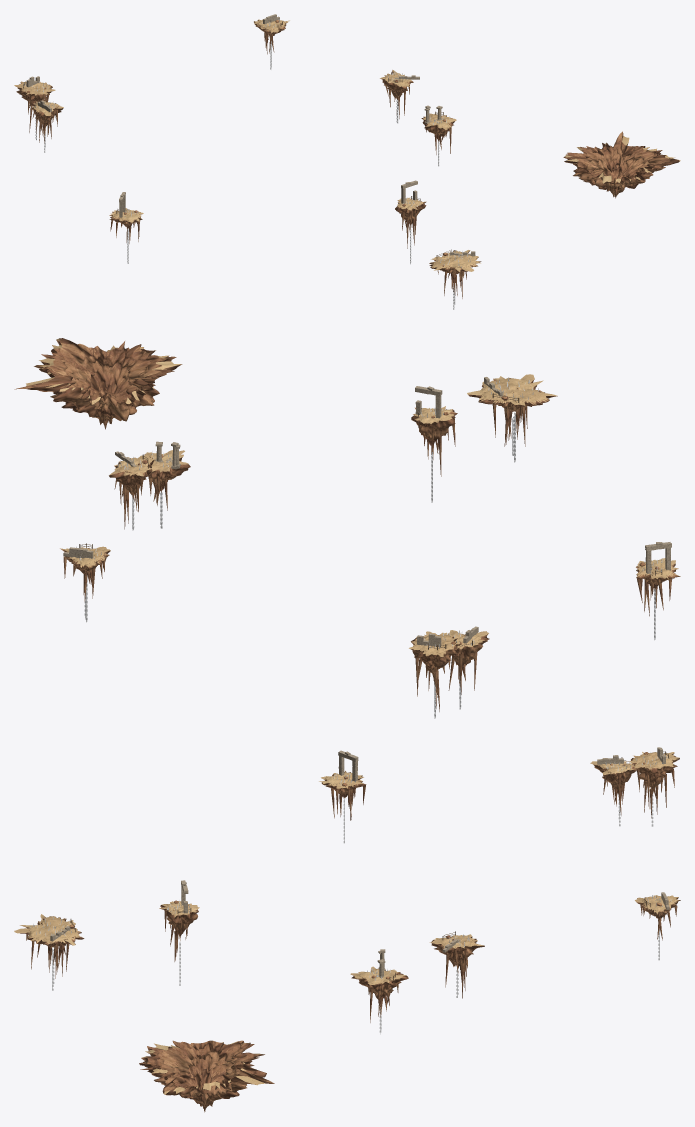
File: map_islands_09.glb
3 views of the same model, one above another, from view 1: azimuth 30°, elevation 25°; view 2: azimuth 150°, elevation 25°; view 3: azimuth 270°, elevation 25° (orthographic). The views are drawn at different scales.
Parts seen in each view (by area): view 1: Isl15_under__cliff, Isl17_top__sand; view 2: Isl15_under__cliff, Isl17_top__sand, Isl15_under__sand, Isl17_props__cliff, Isl22_under__cliff; view 3: Isl15_under__cliff, Isl17_top__sand, Isl15_under__sand, Isl18_top__sand.
Part boxes in pixels (<box>): Isl15_under__cliff: <box>563,131,679,198</box>; Isl17_top__sand: <box>431,250,480,272</box>; Isl15_under__cliff: <box>14,338,182,429</box>; Isl17_top__sand: <box>476,374,557,405</box>; Isl15_under__sand: <box>26,338,181,404</box>; Isl17_props__cliff: <box>492,390,541,446</box>; Isl22_under__cliff: <box>411,408,457,447</box>; Isl15_under__cliff: <box>139,1040,274,1112</box>; Isl17_top__sand: <box>14,914,78,943</box>; Isl15_under__sand: <box>141,1040,265,1094</box>; Isl18_top__sand: <box>629,752,679,769</box>.
Size of the model in its own units: 416 by 81.64 by 378.
Materials: 7 (4 with a texture image).
